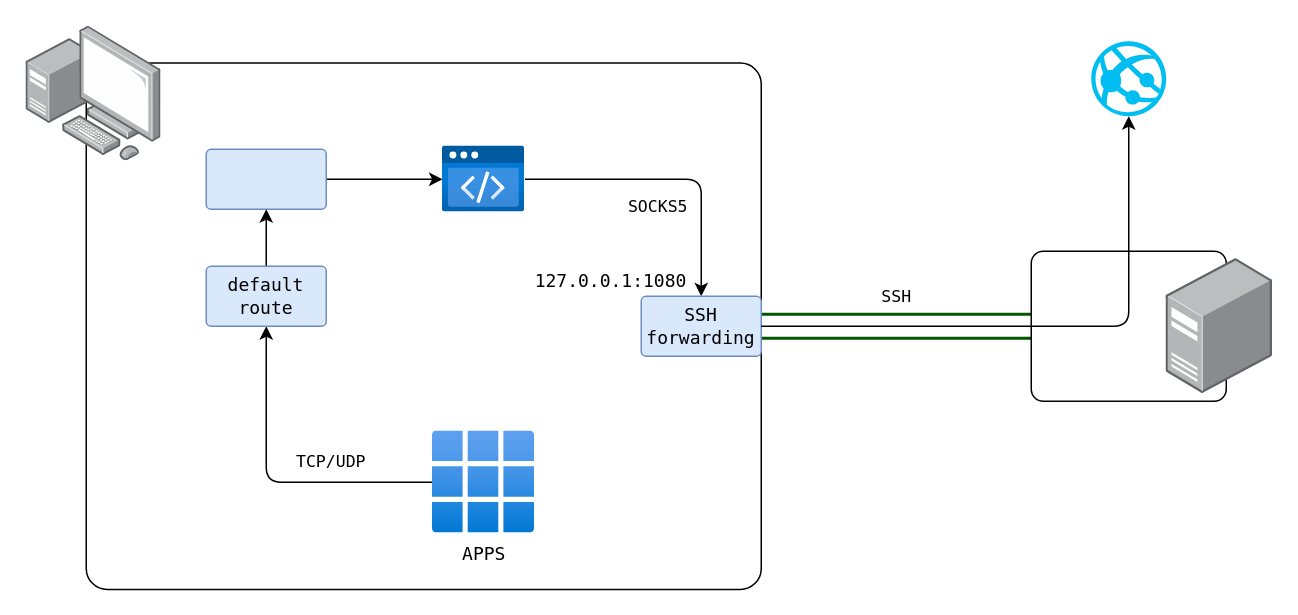
Some shapes in this 1298 by 615 pixel diagram are drawn without their labels. The shapes that lost their labels are listed below. From the top down, each one's box as (x1, y1, x2, y2) in pixels, then its label:
(205, 148, 326, 209): tun0
(442, 146, 524, 212): Tun2Socks.exe
